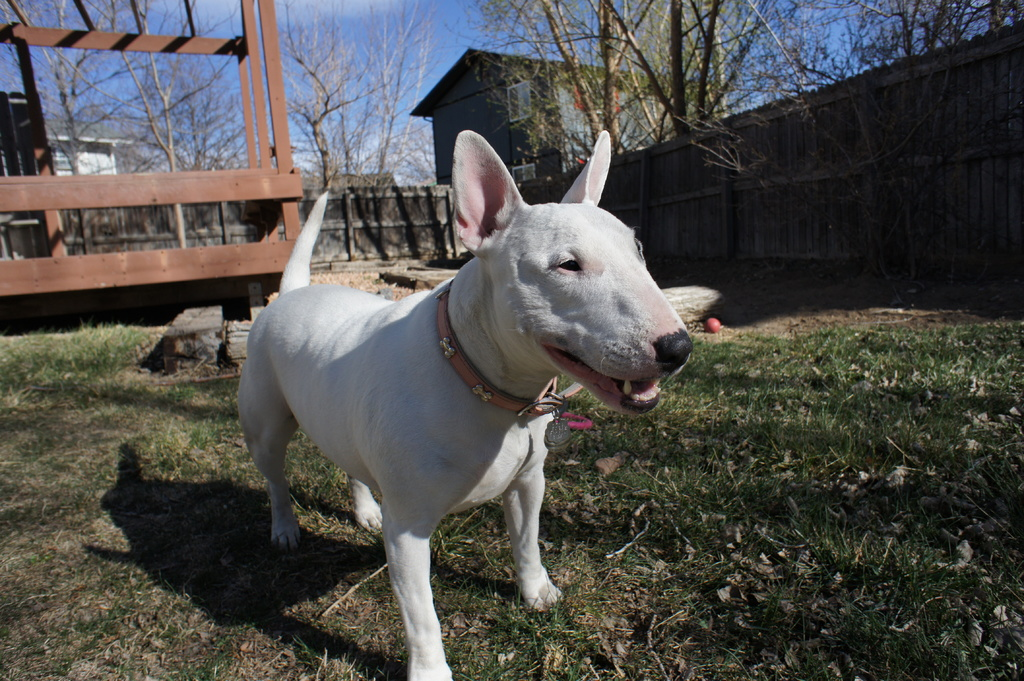Tree: (444, 0, 1024, 147), (0, 0, 245, 251), (275, 0, 435, 187)
